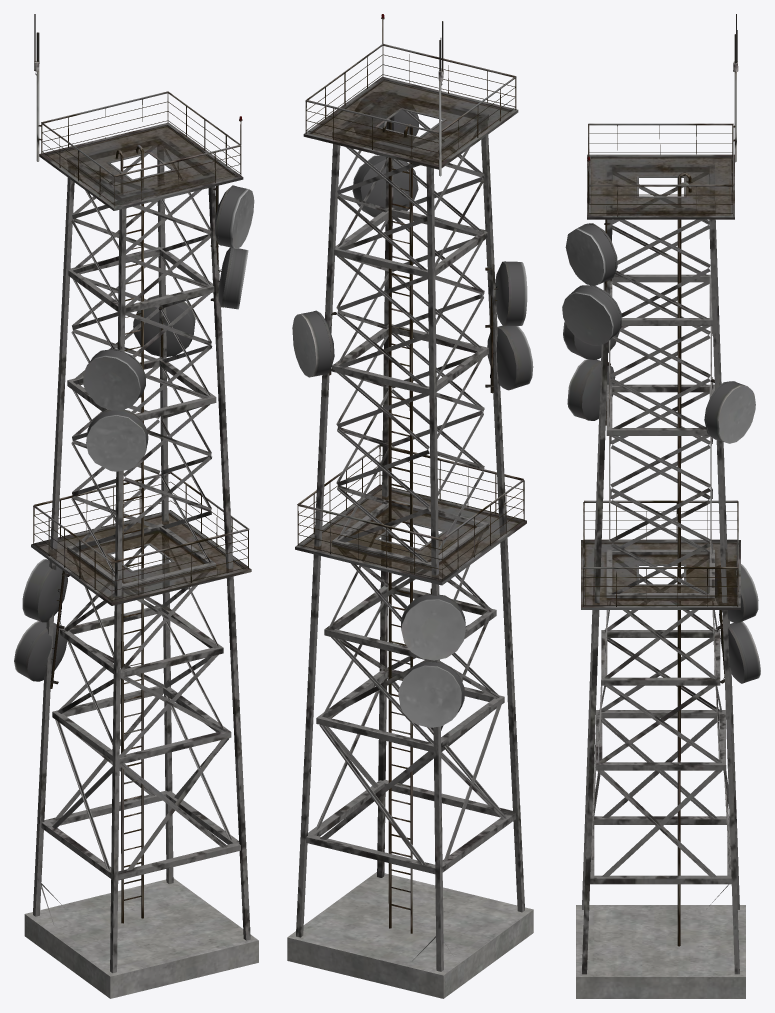
Rendered from radio-mast.lod0.glb.
3 renders of one model, left to right at view 1: azimuth 30°, elevation 25°; view 2: azimuth 150°, elevation 25°; view 3: azimuth 270°, elevation 25°, orthographic. The views are drawn at different scales.
Visible parts, largest first — view 1: defaultMaterial (×2); view 2: defaultMaterial (×2); view 3: defaultMaterial (×2).
Part boxes in pixels (x1=…): defaultMaterial (×2): x1=14, y1=14, x2=258, y2=998; defaultMaterial (×2): x1=287, y1=14, x2=533, y2=998; defaultMaterial (×2): x1=562, y1=14, x2=760, y2=998.
Bounding box in the file's own units: 11.64 × 60 × 11.8.
2 materials, 2 textured.
